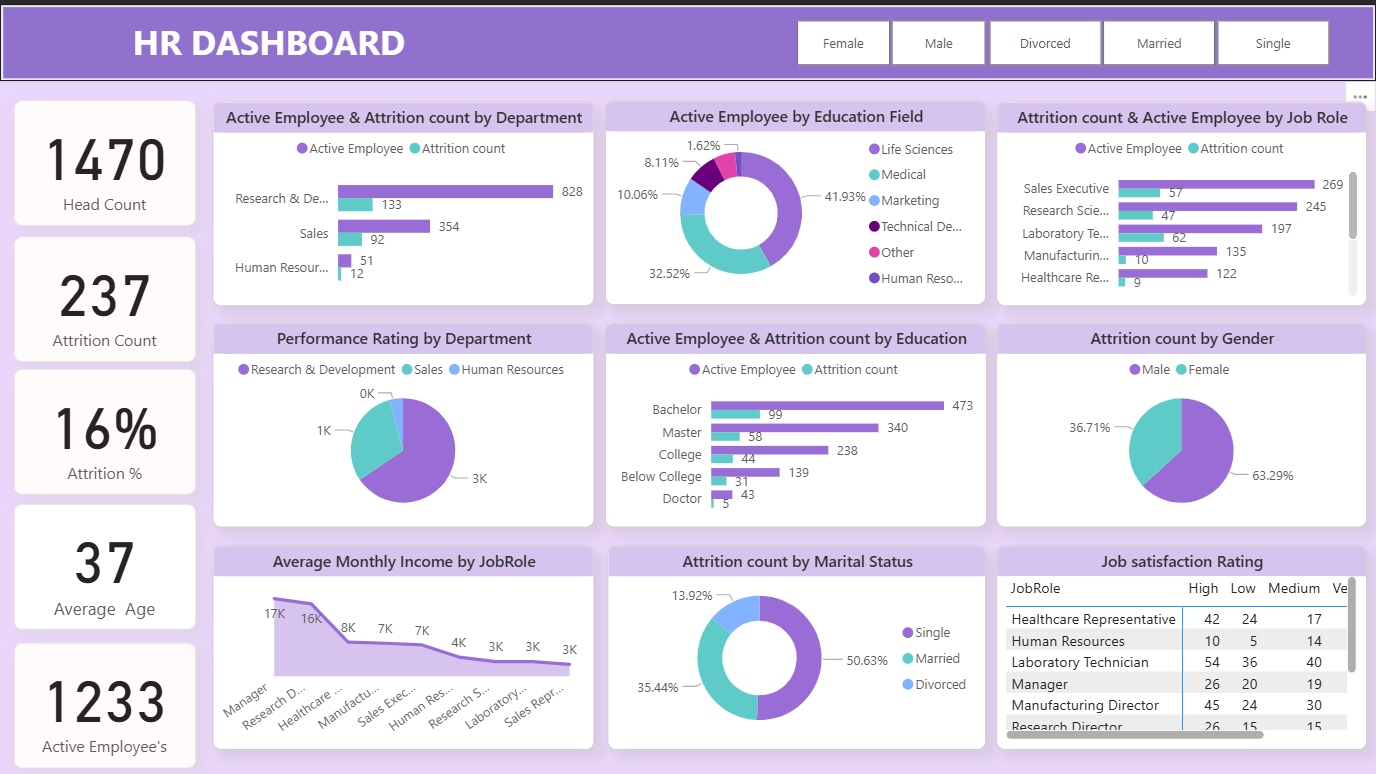

Layout of this report page (visuals, bound fields, positions):
{"tool":"powerbi","page":{"name":"HR Dashboard","canvas":[1280,720],"ordinal":0},"visuals":[{"type":"shape","box":[0,0,1280.2,72.1],"z":0},{"type":"slicer","fields":{"Values":["HR_Project_Power BI.Gender"]},"box":[715.1,8.1,225.6,55.8],"z":1000},{"type":"slicer","fields":{"Values":["HR_Project_Power BI.MaritalStatus"]},"box":[894.2,8.1,366.3,55.8],"z":2000},{"type":"textbox","box":[44.2,8.6,412.3,55.2],"z":3000},{"type":"card","fields":{"Values":["Sum(HR_Project_Power BI.EmployeeCount)"]},"box":[12.3,89.6,169.3,116.6],"z":4000},{"type":"card","fields":{"Values":["Sum(HR_Project_Power BI.Attrition_count)"]},"box":[12.3,216,169.3,116.6],"z":5000},{"type":"card","fields":{"Values":["HR_Project_Power BI.Attrition_Rate"]},"box":[12.3,339.9,169.3,116.6],"z":6000},{"type":"card","fields":{"Values":["Avg(HR_Project_Power BI.Age)"]},"box":[12.3,465,169.3,116.6],"z":7000},{"type":"card","fields":{"Values":["HR_Project_Power BI.Active Employee's"]},"box":[12.3,593.9,169.3,116.6],"z":8000},{"type":"clusteredBarChart","title":"Active Employee &  Attrition count by Department","fields":{"Category":["HR_Project_Power BI.Department"],"Y":["HR_Project_Power BI.Active Employee's","Sum(HR_Project_Power BI.Attrition_count)"]},"box":[197.5,90.8,355,190],"z":9000},{"type":"pieChart","title":"Performance Rating by Department","fields":{"Category":["HR_Project_Power BI.Department"],"Y":["Sum(HR_Project_Power BI.PerformanceRating)"]},"box":[197.5,296.9,355,190],"z":10000},{"type":"areaChart","title":"Average Monthly Income by JobRole","fields":{"Category":["HR_Project_Power BI.JobRole"],"Y":["Avg(HR_Project_Power BI.MonthlyIncome)"]},"box":[197.5,503.1,355,190],"z":11000},{"type":"donutChart","title":"Active Employee  by Education Field","fields":{"Category":["HR_Project_Power BI.EducationField"],"Y":["HR_Project_Power BI.Active Employee's"]},"box":[563.2,89.6,354.6,190.2],"z":12000},{"type":"clusteredBarChart","title":"Active Employee & Attrition count  by Education","fields":{"Category":["HR_Project_Power BI.Education"],"Y":["HR_Project_Power BI.Active Employee's","Sum(HR_Project_Power BI.Attrition_count)"]},"box":[563.2,296.9,355,190],"z":13000},{"type":"clusteredBarChart","title":"Attrition count & Active Employee by Job Role","fields":{"Category":["HR_Project_Power BI.JobRole"],"Y":["HR_Project_Power BI.Active Employee's","Sum(HR_Project_Power BI.Attrition_count)"]},"box":[926.4,90.8,345,190],"z":14000},{"type":"pieChart","title":"Attrition  count by Gender","fields":{"Category":["HR_Project_Power BI.Gender"],"Y":["Sum(HR_Project_Power BI.Attrition_count)"]},"box":[926.4,296.9,344.8,190.2],"z":15000},{"type":"donutChart","title":"Attrition count by Marital Status","fields":{"Category":["HR_Project_Power BI.MaritalStatus"],"Y":["Sum(HR_Project_Power BI.Attrition_count)"]},"box":[565.6,503.1,352.1,190.2],"z":16000},{"type":"pivotTable","title":"Job satisfaction Rating","fields":{"Rows":["HR_Project_Power BI.JobRole"],"Values":["HR_Project_Power BI.Active Employee's"],"Columns":["HR_Project_Power BI.Job satisfaction"]},"box":[926.4,503.1,344.8,190.2],"z":17000}]}

Visuals, with their boxes in screenshot pixels (x1, y1, x2, y2), scaled from the page's 1280x720 canvas onto the 1376x774 screenshot:
shape: BBox(0, 0, 1375, 78)
slicer - HR_Project_Power BI.Gender: BBox(769, 9, 1011, 69)
slicer - HR_Project_Power BI.MaritalStatus: BBox(961, 9, 1355, 69)
textbox: BBox(48, 9, 491, 69)
card - Sum(HR_Project_Power BI.EmployeeCount): BBox(13, 96, 195, 222)
card - Sum(HR_Project_Power BI.Attrition_count): BBox(13, 232, 195, 358)
card - HR_Project_Power BI.Attrition_Rate: BBox(13, 365, 195, 491)
card - Avg(HR_Project_Power BI.Age): BBox(13, 500, 195, 625)
card - HR_Project_Power BI.Active Employee's: BBox(13, 638, 195, 764)
"Active Employee &  Attrition count by Department" clusteredBarChart: BBox(212, 98, 594, 302)
"Performance Rating by Department" pieChart: BBox(212, 319, 594, 523)
"Average Monthly Income by JobRole" areaChart: BBox(212, 541, 594, 745)
"Active Employee  by Education Field" donutChart: BBox(605, 96, 987, 301)
"Active Employee & Attrition count  by Education" clusteredBarChart: BBox(605, 319, 987, 523)
"Attrition count & Active Employee by Job Role" clusteredBarChart: BBox(996, 98, 1367, 302)
"Attrition  count by Gender" pieChart: BBox(996, 319, 1367, 524)
"Attrition count by Marital Status" donutChart: BBox(608, 541, 987, 745)
"Job satisfaction Rating" pivotTable: BBox(996, 541, 1367, 745)
